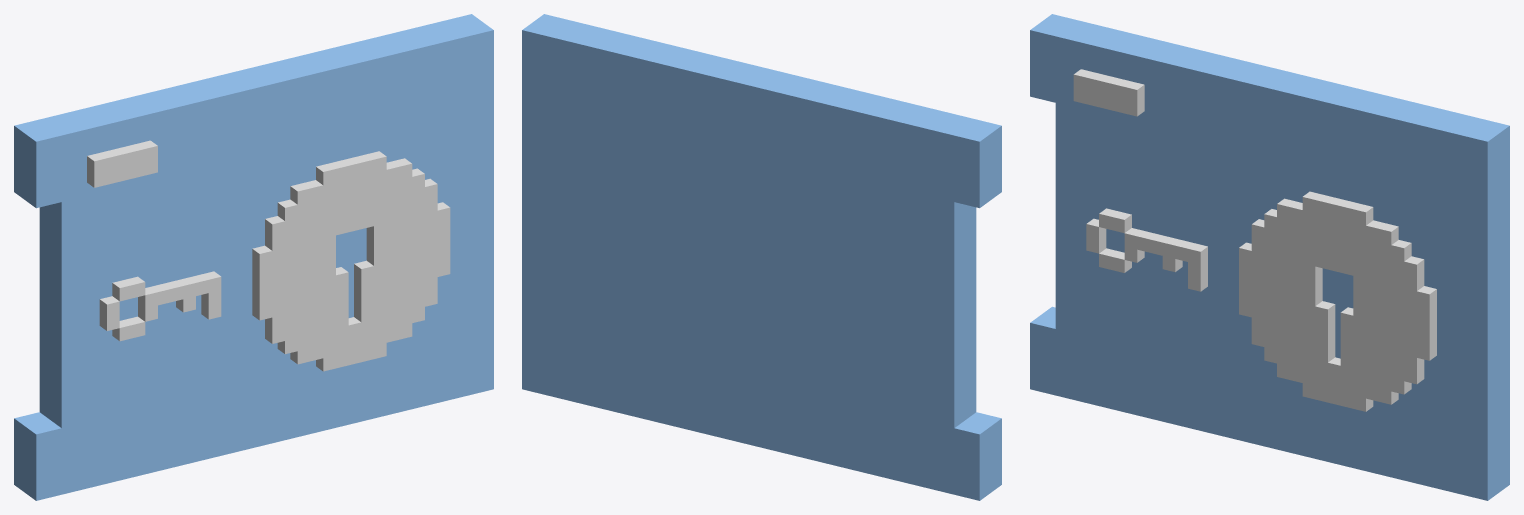
Rendered from door.fbx.
3 renders of one model, left to right at view 1: azimuth 30°, elevation 25°; view 2: azimuth 150°, elevation 25°; view 3: azimuth 330°, elevation 25°, orthographic.
Visible parts, largest first — view 1: Box Door; view 2: Box Door; view 3: Box Door.
Boxes of the visible parts, box(x1,y1,x2,y2) form: Box Door: box(14, 14, 493, 500); Box Door: box(522, 14, 1001, 500); Box Door: box(1030, 14, 1509, 500).
Size of the model in its own units: 360 by 270 by 40.
